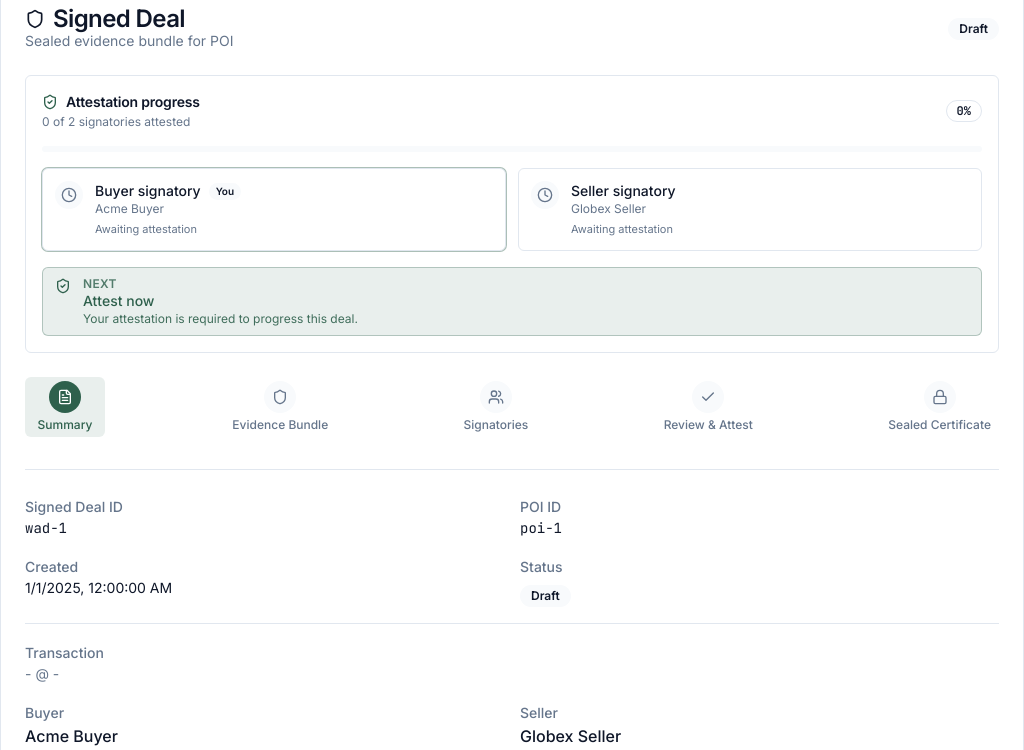
Test: Attest error a11y › exposes the failure as an assertive aria-live alert with the error text
The width and height of the screenshot is (1024, 750).
Click the button "Review & Attest" at x=708, y=407, box [656,377,761,437]
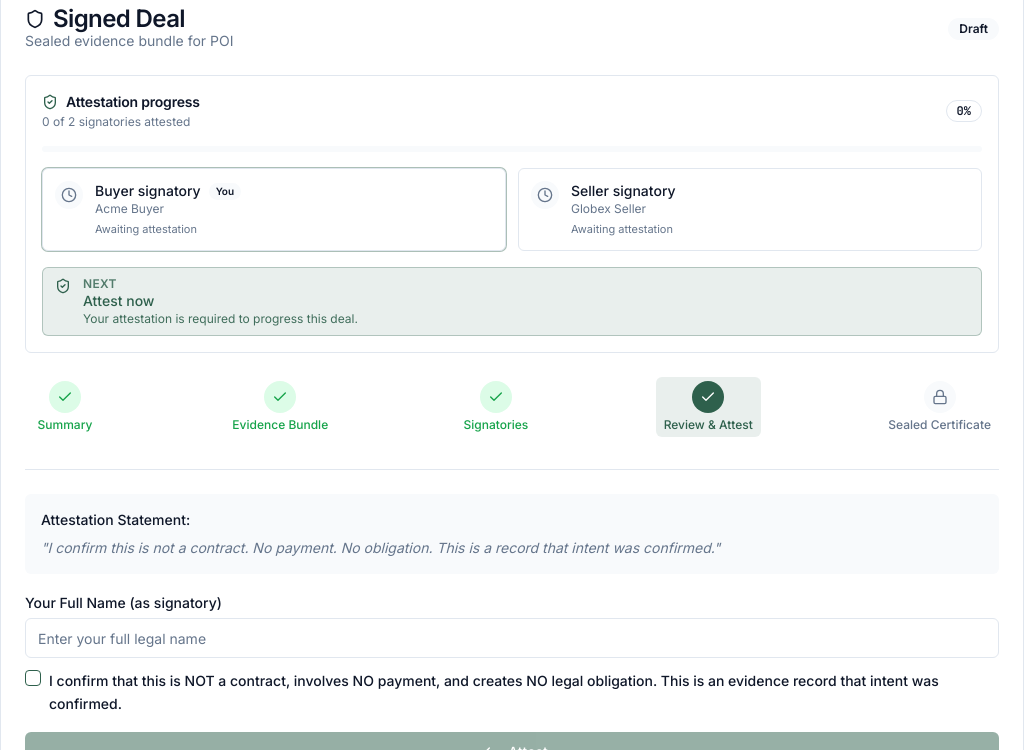
Type "Jane Doe" into the field labelled "Your Full Name (as signatory)" at x=512, y=638, box [25,618,999,658]
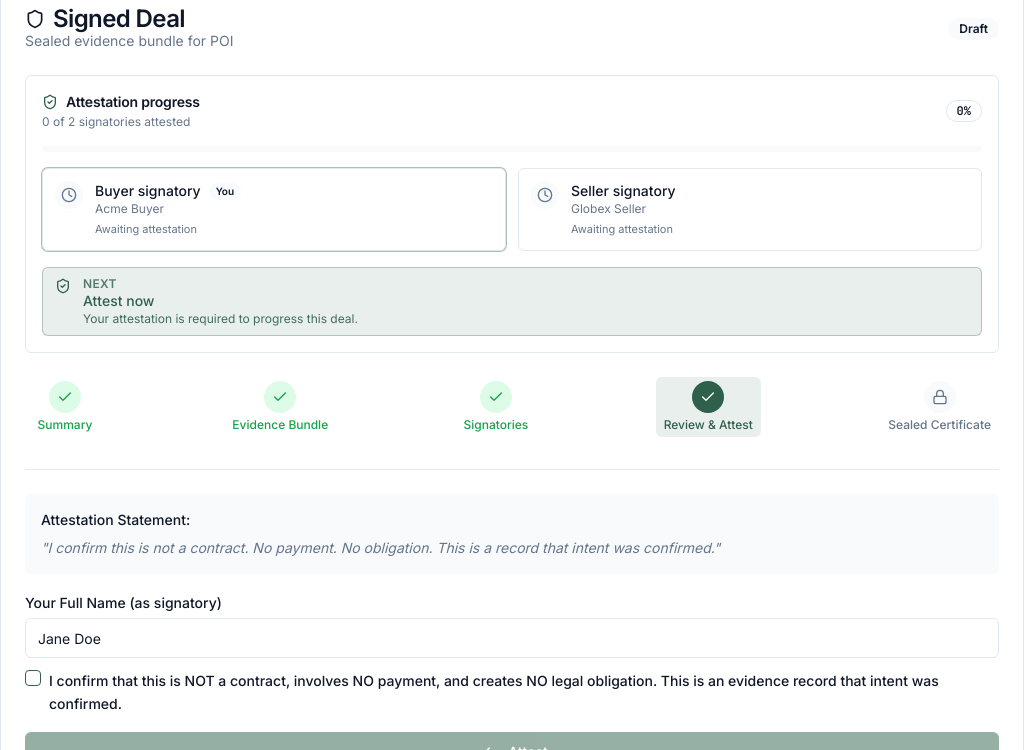
Click the checkbox named "i confirm that this is not a contract" at x=33, y=678, box [25,670,41,686]
(page scrolled)
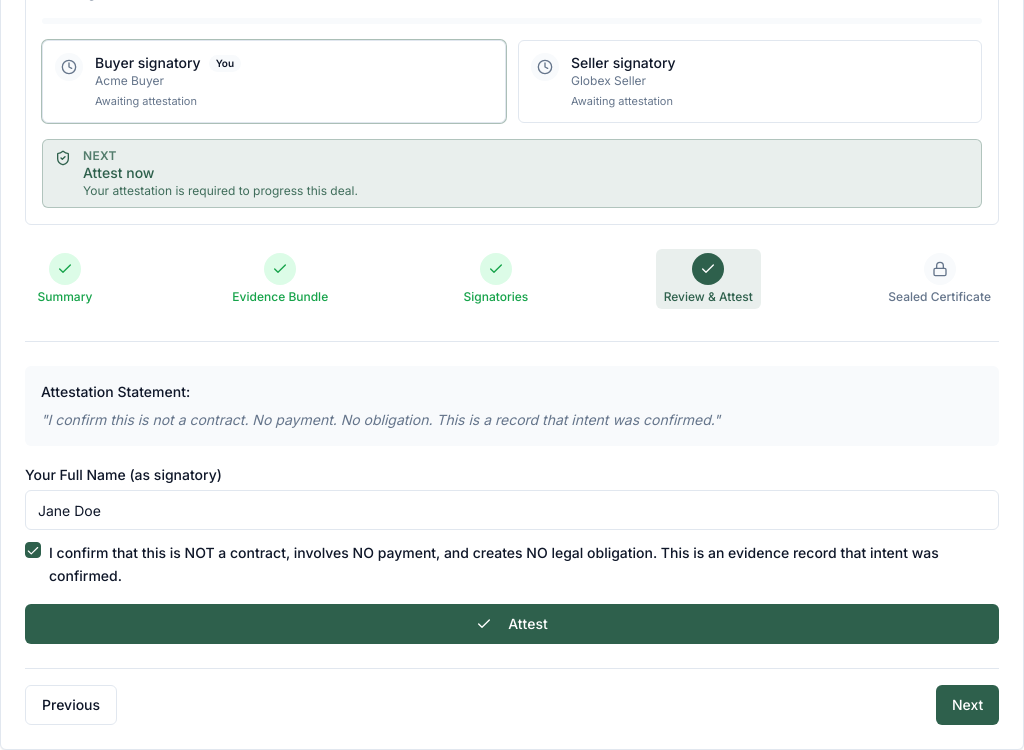
Click the button with test id "attest-submit-button" at x=512, y=624, box [25,604,999,644]
(page scrolled)
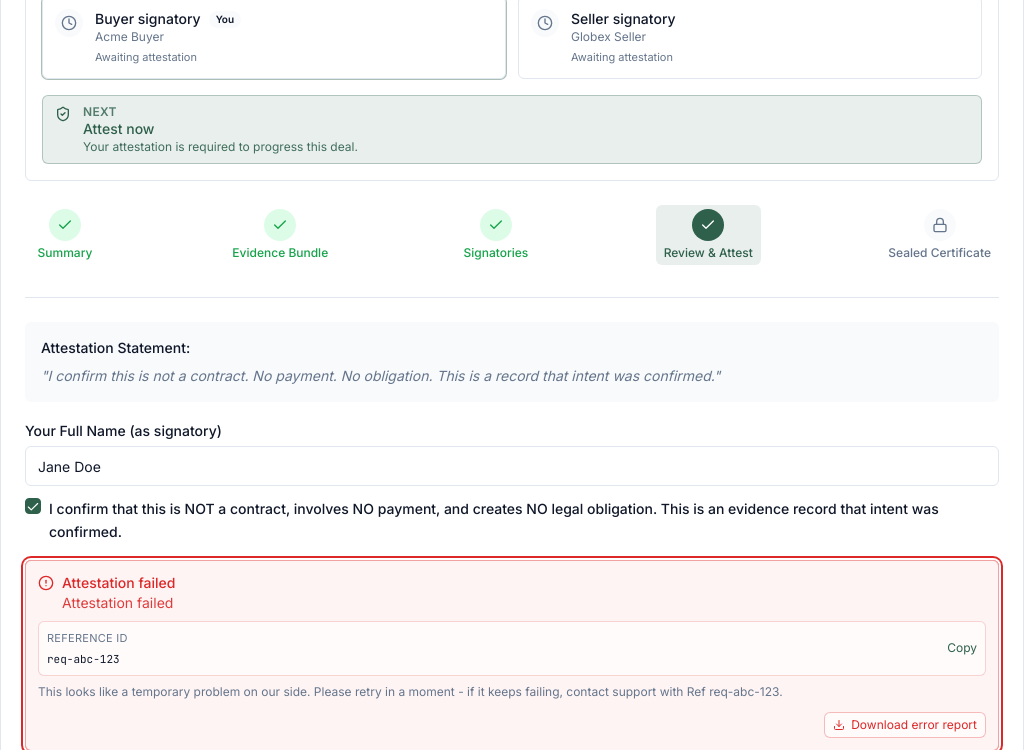
Expected: the 1st text "Attestation failed" is shown, [62,574,175,590]
Expected: the text "req-abc-123" is shown, [47,652,120,666]
